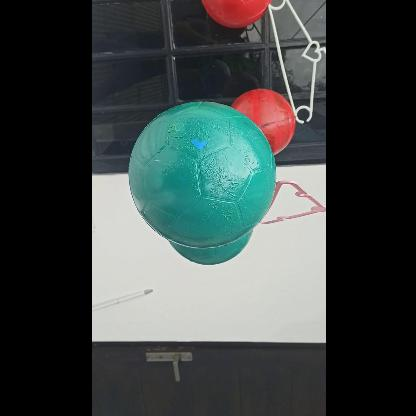green_ball: (127, 100, 276, 249)
